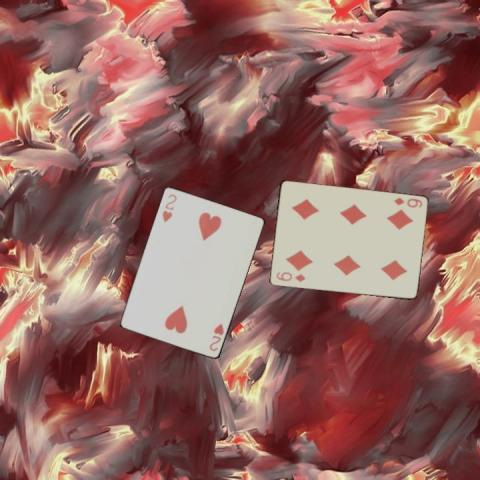2h: (159, 191, 178, 224), (207, 320, 225, 352)
6d: (273, 269, 307, 283), (391, 195, 423, 209)
